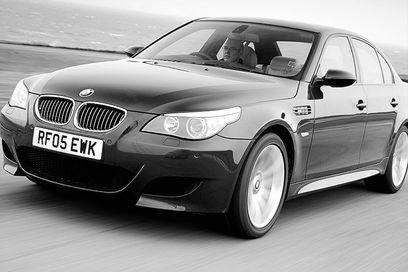car: (1, 17, 408, 242)
